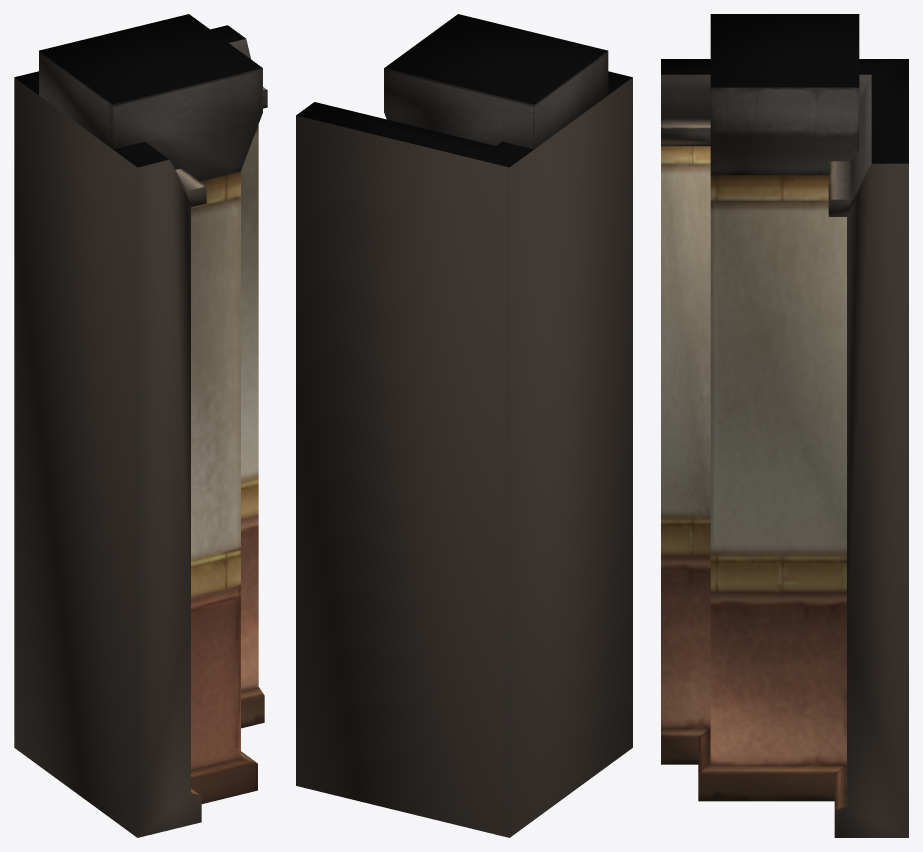
Rendered from a_SWIwall02_03.glb.
3 views of the same model, side by side, from view 1: azimuth 30°, elevation 25°; view 2: azimuth 150°, elevation 25°; view 3: azimuth 270°, elevation 25° (orthographic).
Parts seen in each view (by area): view 1: a_SWIwall02_03; view 2: a_SWIwall02_03; view 3: a_SWIwall02_03.
Part boxes in pixels (x1,y1,x2,y2): a_SWIwall02_03: (14,14,267,837); a_SWIwall02_03: (296,14,632,837); a_SWIwall02_03: (661,14,908,837).
Size of the model in its own units: 1 by 3.2 by 1.
Materials: 2 (2 with a texture image).
